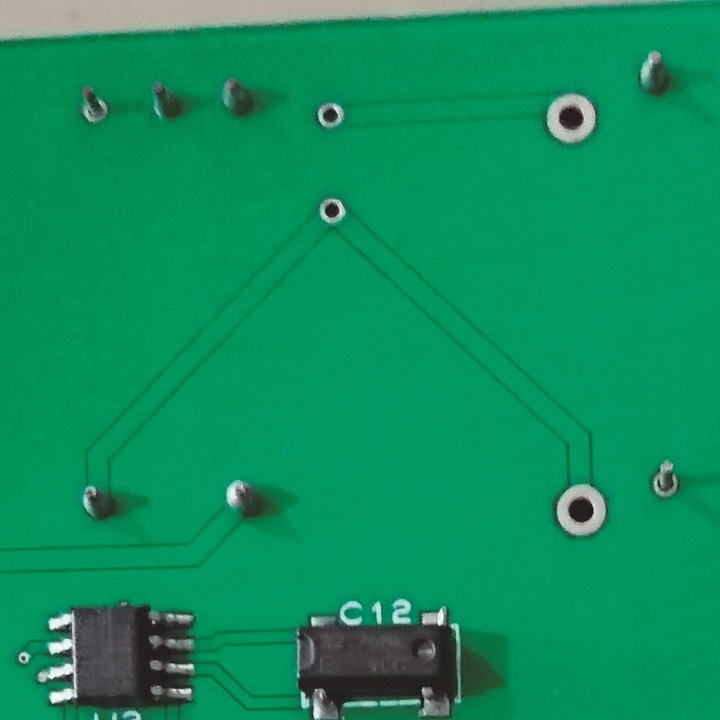F: (542, 90, 604, 152), (553, 480, 610, 538), (71, 86, 115, 127), (651, 460, 681, 501), (310, 196, 346, 225), (317, 100, 347, 131)
